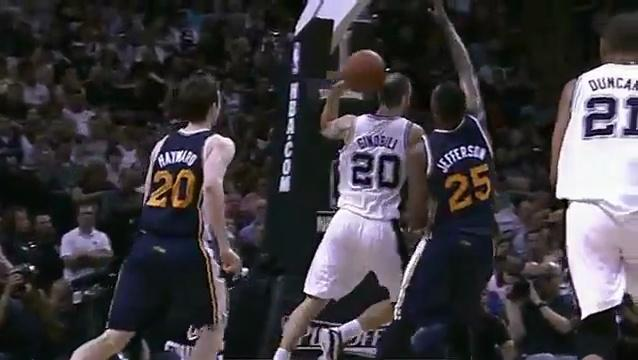Ball: (341, 50, 386, 93)
Person: (69, 75, 237, 360), (271, 75, 418, 360), (397, 0, 501, 360), (550, 10, 638, 360)
